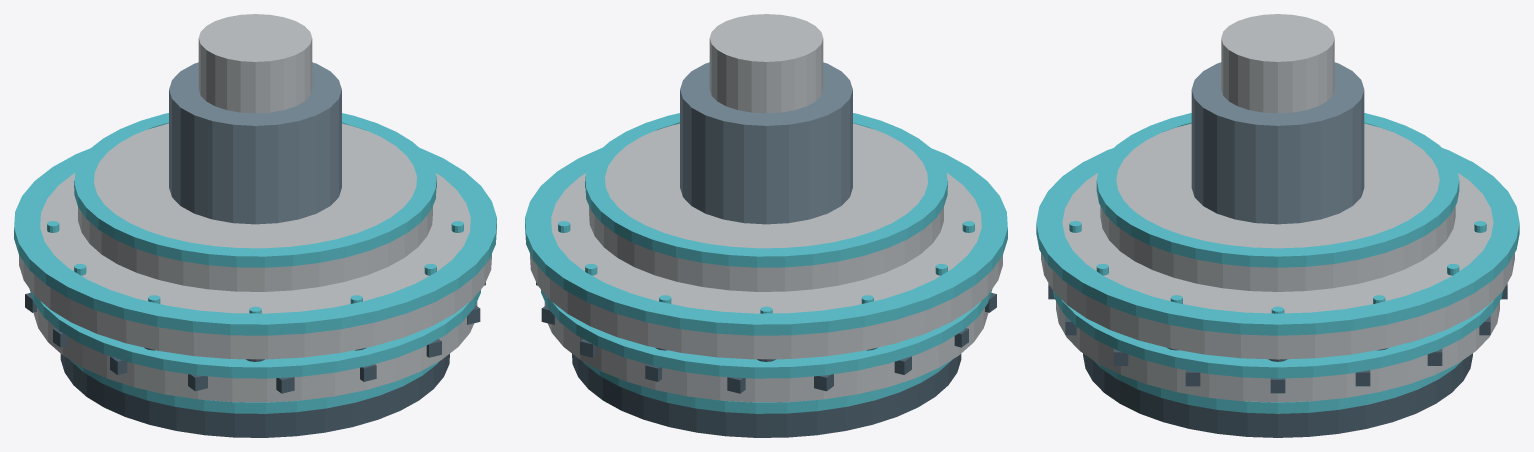
Rendered from 28_L77_SoftLandingCarrierHead.glb.
The picture shows the model from 3 angles, left to right: view 1: azimuth 30°, elevation 25°; view 2: azimuth 150°, elevation 25°; view 3: azimuth 270°, elevation 25°; orthographic projection.
Parts seen in each view (by area): view 1: SoftLandingCarrierHead_Node_0006, SoftLandingCarrierHead_Node_0004, SoftLandingCarrierHead_Node_0008, SoftLandingCarrierHead_Node_0005, SoftLandingCarrierHead_Node_0007, SoftLandingCarrierHead_Node_0009, SoftLandingCarrierHead_Node_0000, SoftLandingCarrierHead_Node_0002, SoftLandingCarrierHead_Node_0003, SoftLandingCarrierHead_Node_0001; view 2: SoftLandingCarrierHead_Node_0006, SoftLandingCarrierHead_Node_0004, SoftLandingCarrierHead_Node_0008, SoftLandingCarrierHead_Node_0005, SoftLandingCarrierHead_Node_0007, SoftLandingCarrierHead_Node_0009, SoftLandingCarrierHead_Node_0000, SoftLandingCarrierHead_Node_0002, SoftLandingCarrierHead_Node_0003, SoftLandingCarrierHead_Node_0001; view 3: SoftLandingCarrierHead_Node_0006, SoftLandingCarrierHead_Node_0004, SoftLandingCarrierHead_Node_0008, SoftLandingCarrierHead_Node_0005, SoftLandingCarrierHead_Node_0007, SoftLandingCarrierHead_Node_0009, SoftLandingCarrierHead_Node_0000, SoftLandingCarrierHead_Node_0002, SoftLandingCarrierHead_Node_0003, SoftLandingCarrierHead_Node_0001.
Boxes of the visible parts, left/top/right/bottom form: SoftLandingCarrierHead_Node_0006: left=78, top=123, right=432, bottom=291; SoftLandingCarrierHead_Node_0004: left=19, top=173, right=491, bottom=359; SoftLandingCarrierHead_Node_0008: left=169, top=62, right=341, bottom=224; SoftLandingCarrierHead_Node_0005: left=14, top=147, right=496, bottom=335; SoftLandingCarrierHead_Node_0007: left=74, top=113, right=436, bottom=267; SoftLandingCarrierHead_Node_0009: left=198, top=14, right=312, bottom=113; SoftLandingCarrierHead_Node_0000: left=60, top=354, right=449, bottom=437; SoftLandingCarrierHead_Node_0002: left=33, top=301, right=477, bottom=402; SoftLandingCarrierHead_Node_0003: left=29, top=289, right=480, bottom=378; SoftLandingCarrierHead_Node_0001: left=70, top=360, right=439, bottom=413; SoftLandingCarrierHead_Node_0006: left=589, top=123, right=943, bottom=291; SoftLandingCarrierHead_Node_0004: left=530, top=173, right=1002, bottom=359; SoftLandingCarrierHead_Node_0008: left=680, top=62, right=852, bottom=224; SoftLandingCarrierHead_Node_0005: left=525, top=147, right=1007, bottom=335; SoftLandingCarrierHead_Node_0007: left=585, top=113, right=947, bottom=267; SoftLandingCarrierHead_Node_0009: left=709, top=14, right=823, bottom=113; SoftLandingCarrierHead_Node_0000: left=572, top=354, right=961, bottom=437; SoftLandingCarrierHead_Node_0002: left=544, top=301, right=988, bottom=402; SoftLandingCarrierHead_Node_0003: left=541, top=289, right=992, bottom=378; SoftLandingCarrierHead_Node_0001: left=582, top=360, right=951, bottom=413; SoftLandingCarrierHead_Node_0006: left=1100, top=123, right=1455, bottom=291; SoftLandingCarrierHead_Node_0004: left=1041, top=173, right=1514, bottom=359; SoftLandingCarrierHead_Node_0008: left=1191, top=62, right=1364, bottom=224; SoftLandingCarrierHead_Node_0005: left=1036, top=148, right=1519, bottom=335; SoftLandingCarrierHead_Node_0007: left=1096, top=113, right=1459, bottom=267; SoftLandingCarrierHead_Node_0009: left=1221, top=14, right=1334, bottom=113; SoftLandingCarrierHead_Node_0000: left=1083, top=353, right=1472, bottom=437; SoftLandingCarrierHead_Node_0002: left=1056, top=301, right=1499, bottom=402; SoftLandingCarrierHead_Node_0003: left=1053, top=291, right=1502, bottom=378; SoftLandingCarrierHead_Node_0001: left=1093, top=360, right=1462, bottom=413.
Bounding box in the file's own units: 1.96 × 1.42 × 1.96.
